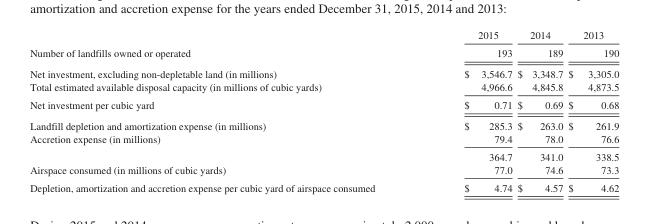table: (29, 28, 618, 192)
table column: (29, 28, 419, 192), (419, 28, 514, 192), (565, 28, 618, 192), (514, 28, 565, 192)
table column header: (29, 28, 618, 43)
table row: (29, 43, 618, 63), (29, 95, 618, 114), (29, 114, 618, 131), (29, 63, 618, 79), (29, 79, 618, 95), (29, 131, 618, 147), (29, 162, 618, 178), (29, 28, 618, 43), (29, 147, 618, 162), (29, 178, 618, 192)
